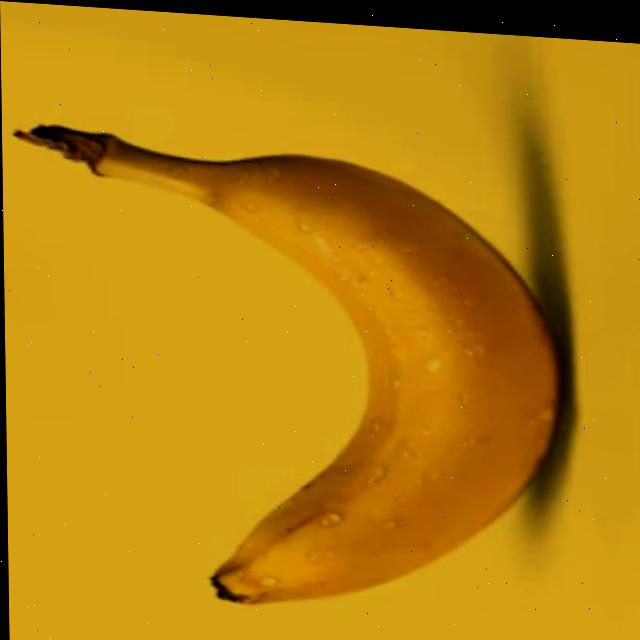banana: (185, 118, 584, 636)
